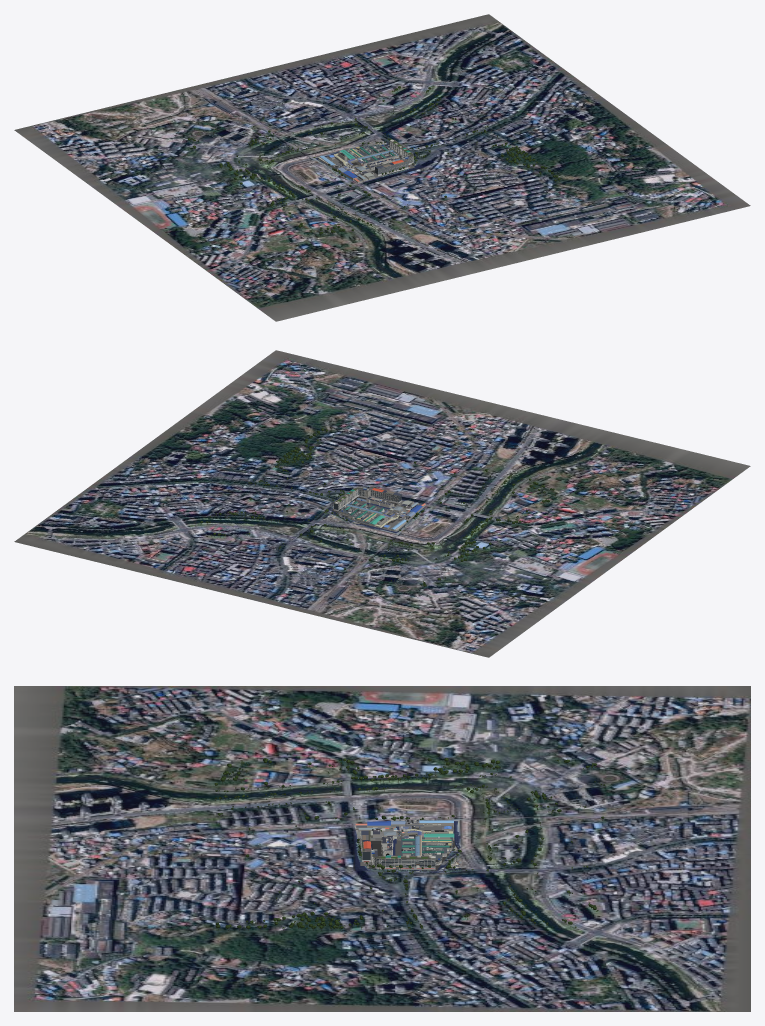
File: scene_mobile_draco.glb
3 renders of one model, top to bottom at view 1: azimuth 30°, elevation 25°; view 2: azimuth 150°, elevation 25°; view 3: azimuth 270°, elevation 25°, orthographic. The views are drawn at different scales.
Visible parts, largest first — view 1: 90b_context_outer_z18z17, 83b_trees_outer, 90_context_satellite_ground; view 2: 90b_context_outer_z18z17, 83b_trees_outer, 90_context_satellite_ground; view 3: 90b_context_outer_z18z17, 83b_trees_outer, 90_context_satellite_ground, ST.
Part boxes in pixels (<box>): 90b_context_outer_z18z17: <box>14,14,750,321</box>; 83b_trees_outer: <box>187,86,560,235</box>; 90_context_satellite_ground: <box>312,139,424,184</box>; 90b_context_outer_z18z17: <box>14,350,750,657</box>; 83b_trees_outer: <box>194,428,555,589</box>; 90_context_satellite_ground: <box>319,499,434,534</box>; 90b_context_outer_z18z17: <box>14,686,750,1011</box>; 83b_trees_outer: <box>214,758,605,930</box>; 90_context_satellite_ground: <box>353,820,461,873</box>; ST: <box>372,854,435,869</box>.
Bounding box in the file's own units: 1665 × 27.45 × 1590.
210 materials, 3 textured.
